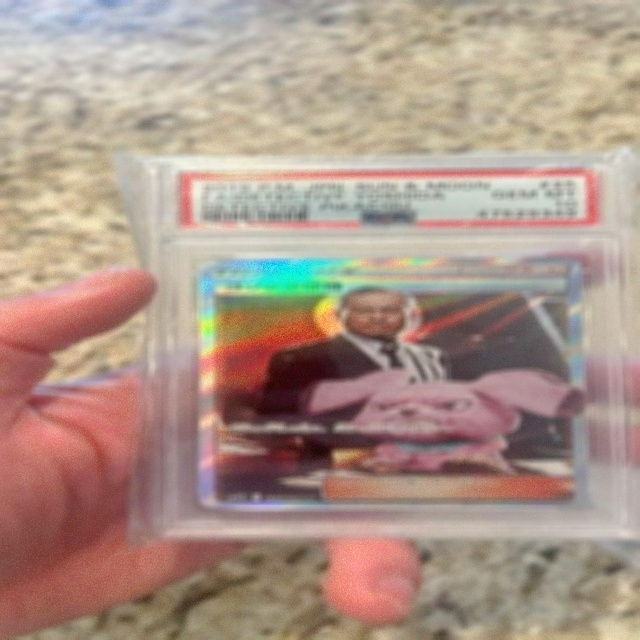card: (197, 257, 589, 509)
